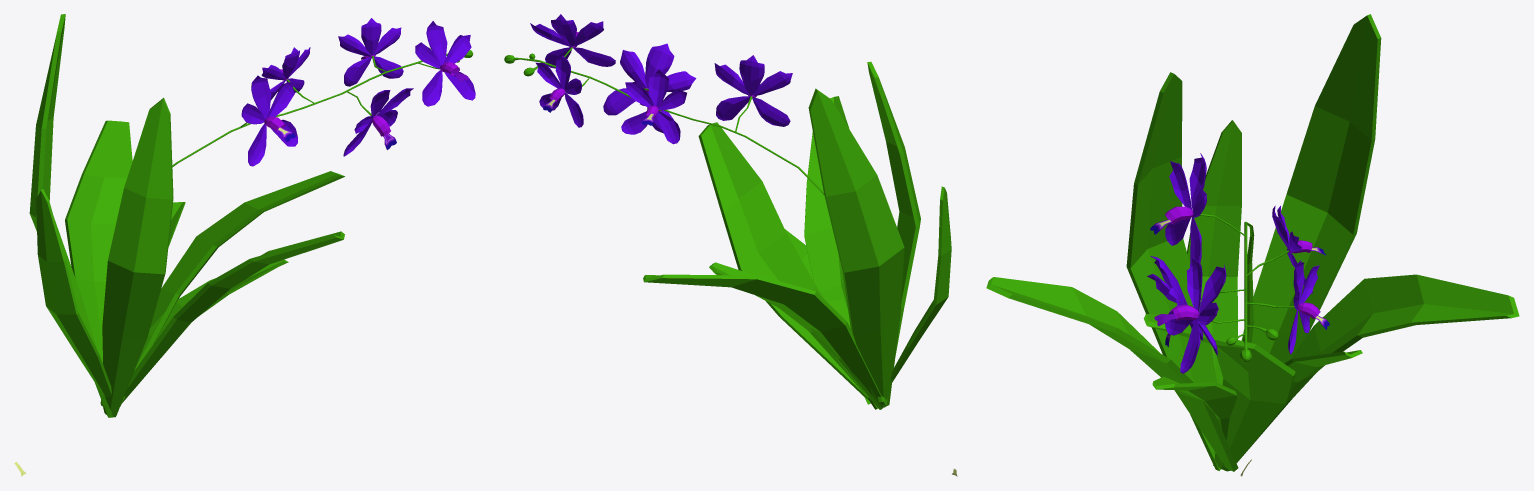
Rendered from orchidpoison2.fbx.
The picture shows the model from 3 angles, left to right: view 1: azimuth 30°, elevation 25°; view 2: azimuth 150°, elevation 25°; view 3: azimuth 270°, elevation 25°; orthographic projection. The views are drawn at different scales.
Visible parts, largest first — view 1: Sphere.030, Sphere.027, Sphere.025, Sphere.029, Sphere.024, Sphere.028, Sphere.026, Cube.051, Cube.014, Sphere.001, Cube, Cube.052 (+3 smaller); view 2: Sphere.028, Sphere.025, Sphere.027, Sphere.024, Sphere.030, Sphere.029, Sphere.023, Cube.023, Sphere.001, Cube.051, Sphere.026, Cube.022 (+8 smaller); view 3: Sphere.028, Sphere.030, Sphere.027, Sphere.029, Sphere.024, Sphere.025, Sphere.026, Sphere.023, Sphere.001, Cube.014, Cube.012, Cube.053 (+2 smaller).
Part boxes in pixels (x1,y1,x2,y2): Sphere.030: [102, 97, 173, 417]; Sphere.027: [65, 120, 132, 411]; Sphere.025: [120, 171, 344, 406]; Sphere.029: [36, 189, 111, 397]; Sphere.024: [122, 231, 344, 402]; Sphere.028: [29, 14, 113, 417]; Sphere.026: [136, 259, 288, 365]; Cube.051: [251, 75, 271, 119]; Cube.014: [426, 21, 447, 65]; Sphere.001: [100, 53, 447, 406]; Cube: [361, 18, 381, 55]; Cube.052: [267, 81, 294, 117]; Sphere.028: [808, 88, 904, 407]; Sphere.025: [698, 122, 868, 399]; Sphere.027: [643, 274, 885, 406]; Sphere.024: [804, 96, 870, 404]; Sphere.030: [867, 61, 920, 405]; Sphere.029: [890, 186, 951, 382]; Sphere.023: [709, 262, 882, 409]; Cube.023: [645, 43, 674, 87]; Sphere.001: [519, 58, 885, 402]; Cube.051: [739, 55, 764, 95]; Sphere.026: [785, 229, 877, 409]; Cube.022: [620, 50, 646, 88]; Sphere.028: [1213, 14, 1381, 471]; Sphere.030: [1126, 72, 1220, 470]; Sphere.027: [1221, 274, 1519, 470]; Sphere.029: [1187, 120, 1241, 454]; Sphere.024: [986, 277, 1238, 471]; Sphere.025: [1143, 314, 1295, 470]; Sphere.026: [1152, 376, 1237, 439]; Sphere.023: [1237, 350, 1362, 462]; Sphere.001: [1243, 221, 1254, 344]; Cube.014: [1199, 265, 1226, 313]; Cube.012: [1186, 257, 1202, 311]; Cube.053: [1169, 161, 1191, 209].
Size of the model in its own units: 2349 by 1988 by 1851.
